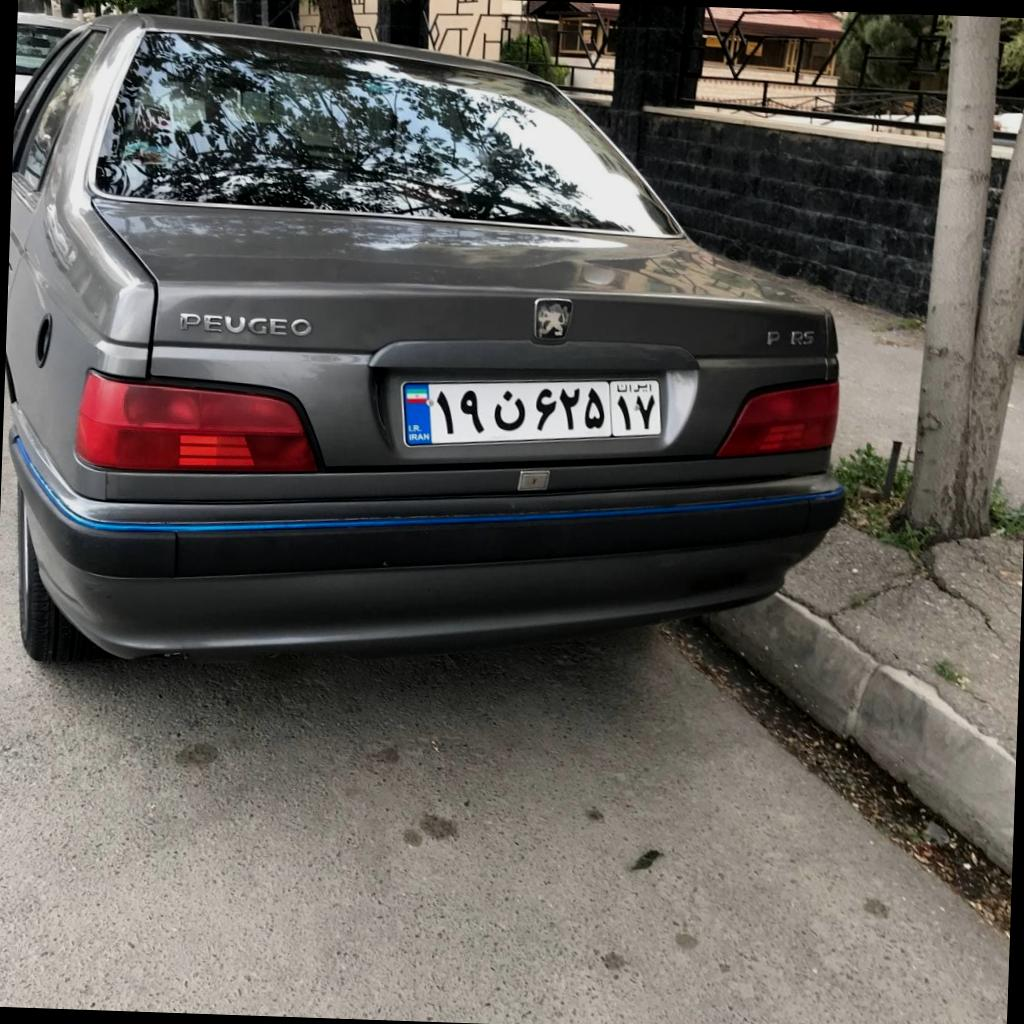Plates: (401, 380, 661, 445)
